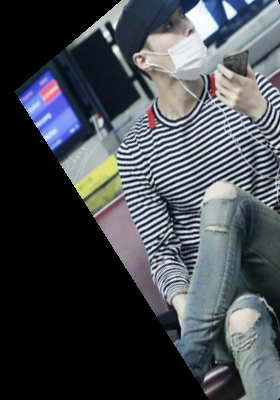mask_weared_incorrect: (105, 1, 214, 90)
